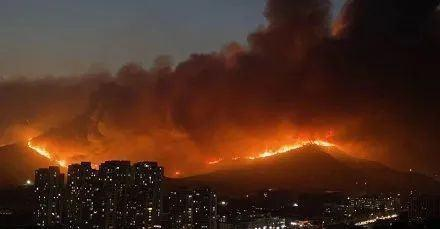fire: (200, 122, 350, 161), (26, 121, 81, 175)
